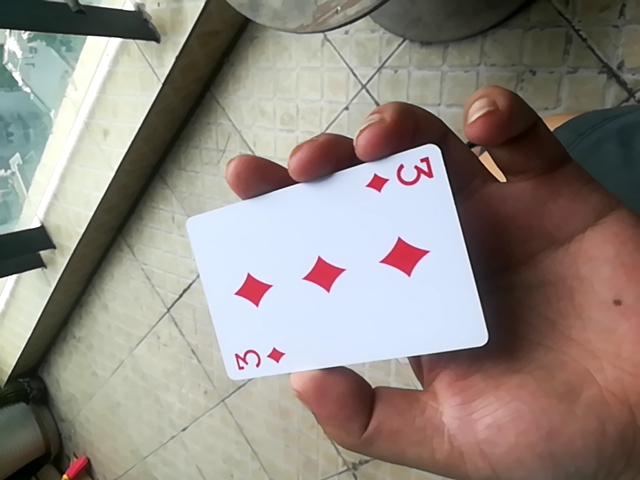fk 3: (180, 140, 488, 386)
